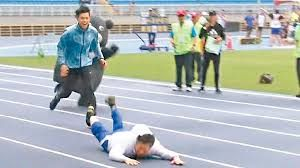10+: (42, 1, 299, 167)
down: (80, 89, 187, 167)
